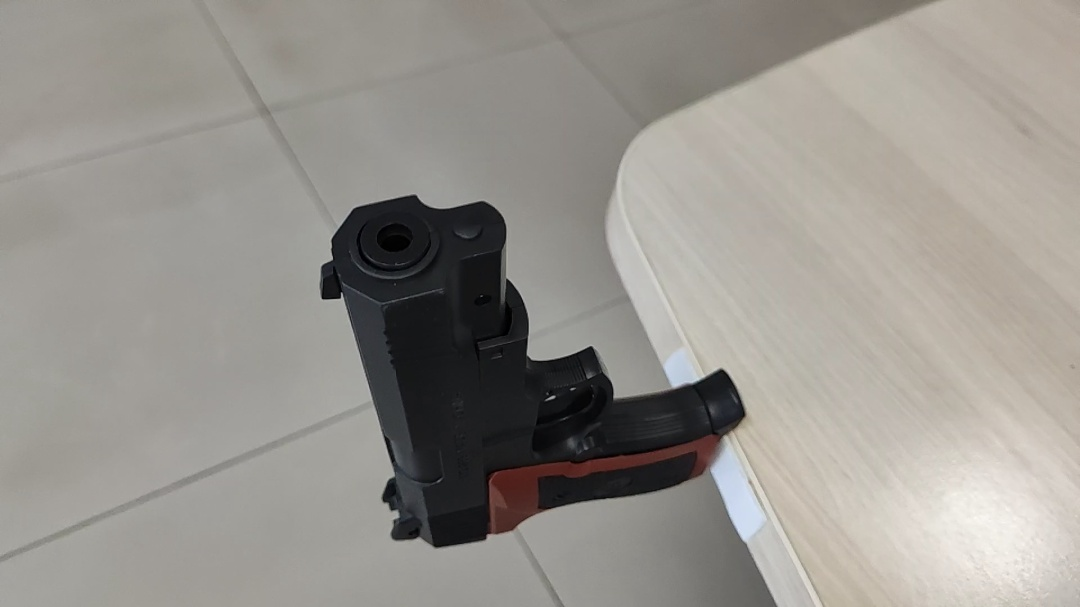gun: (311, 190, 751, 557)
